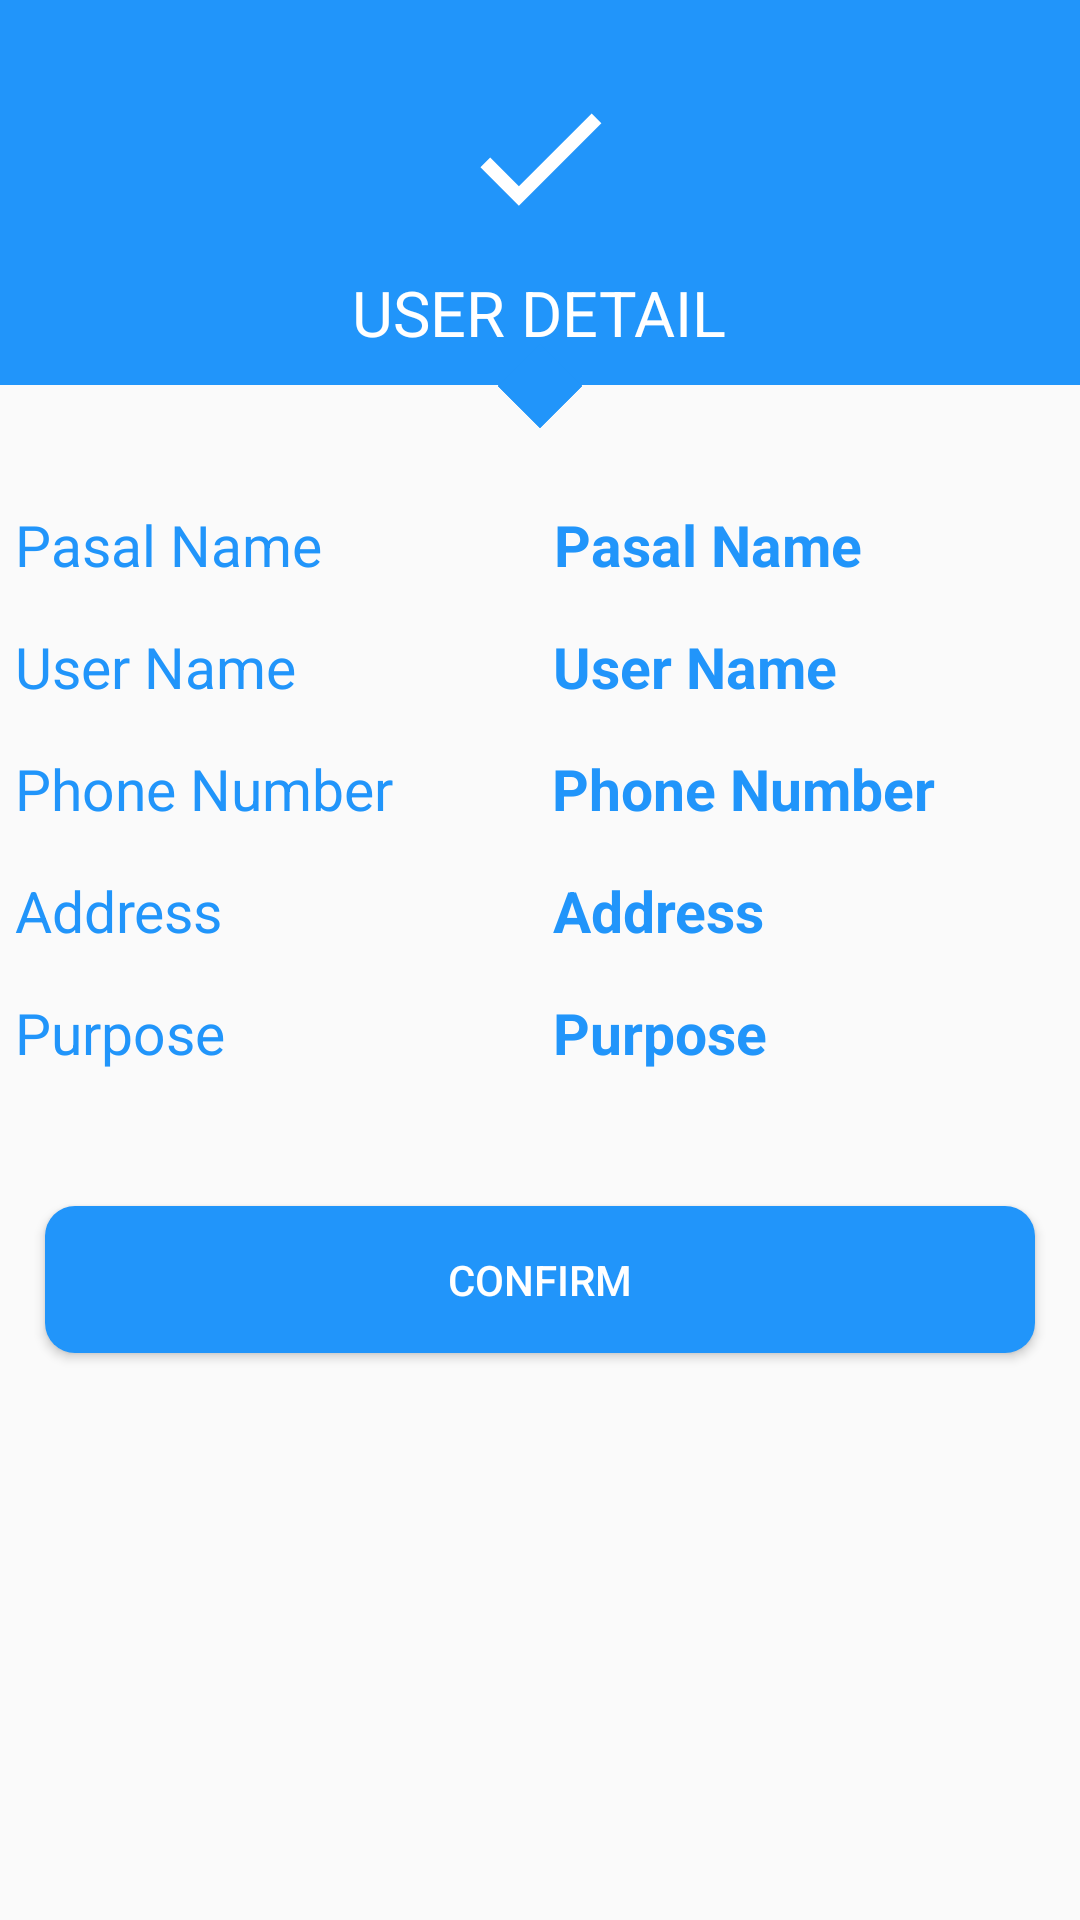

Screen size 1080x1920. Icon name, then its box in pixels as [x1, y1, x2, y2]:
confirm: [480, 113, 602, 206]
